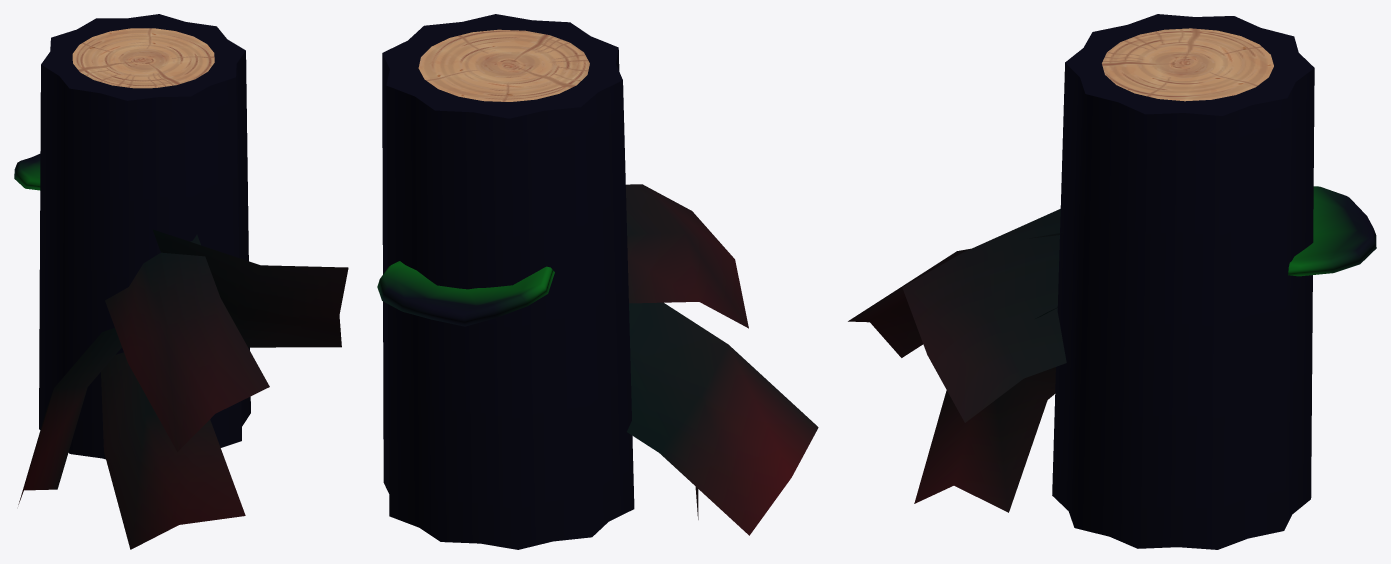
Rendered from obj_harvests_trees_pine03_p05.fbx.
The picture shows the model from 3 angles, left to right: view 1: azimuth 30°, elevation 25°; view 2: azimuth 150°, elevation 25°; view 3: azimuth 270°, elevation 25°; orthographic projection. The views are drawn at different scales.
Parts seen in each view (by area): view 1: chunk05; view 2: chunk05; view 3: chunk05.
Boxes of the visible parts, x1,y1,x2,y2 form: chunk05: [14, 14, 348, 549]; chunk05: [377, 14, 818, 549]; chunk05: [848, 14, 1376, 549].
Bounding box in the file's own units: 6.62 × 9.22 × 8.85.
